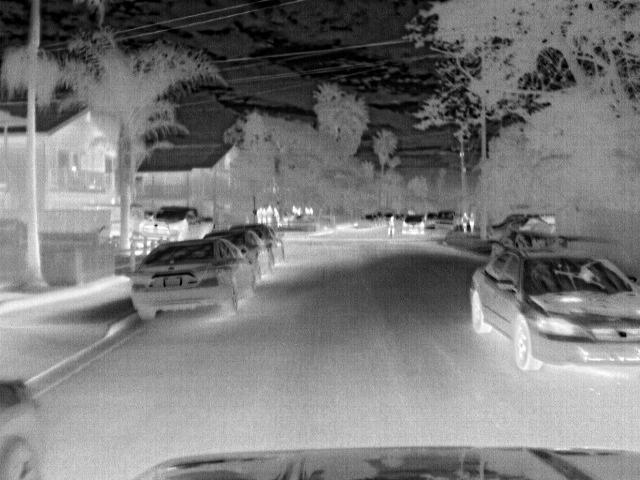car: (468, 245, 640, 373), (127, 238, 258, 323), (1, 378, 48, 479), (199, 228, 273, 277), (140, 207, 216, 243), (225, 224, 289, 266), (488, 216, 527, 246), (400, 214, 426, 234), (435, 210, 455, 232), (420, 212, 436, 229)
person: (384, 214, 401, 238), (458, 210, 471, 234), (467, 211, 479, 232)
